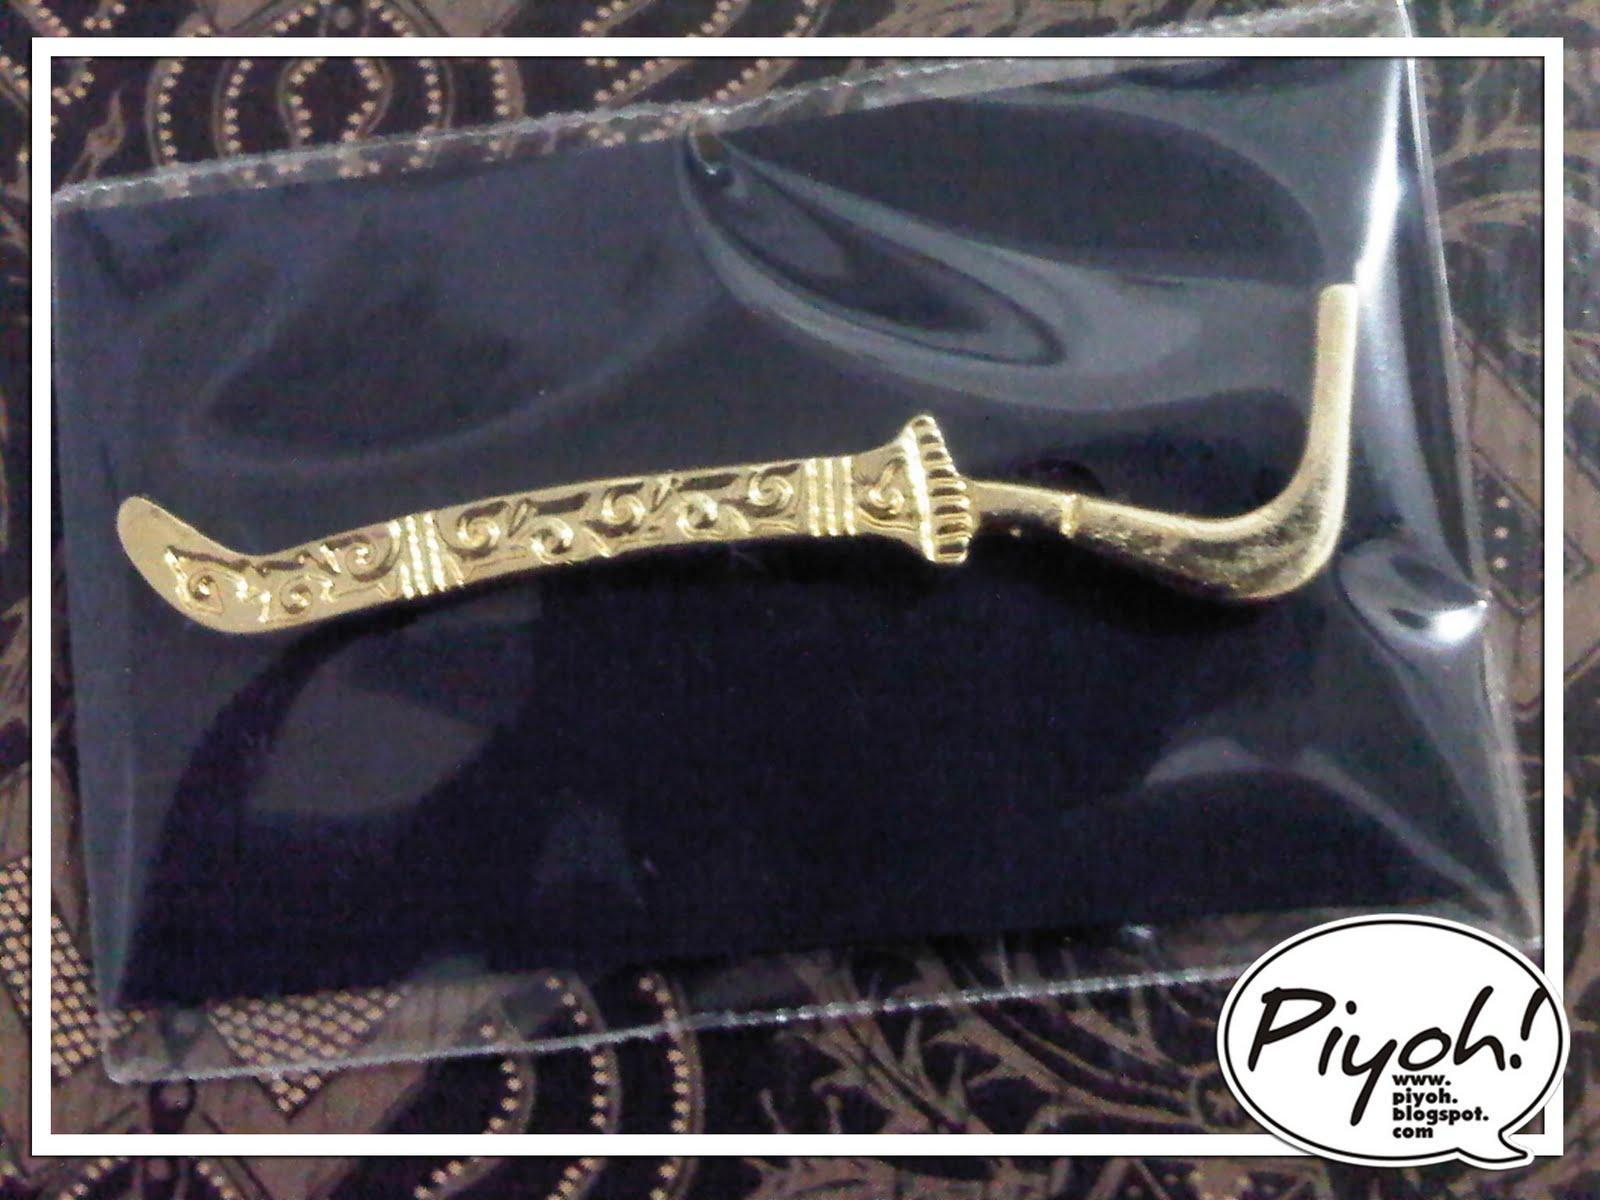facao: (92, 268, 1443, 703)
